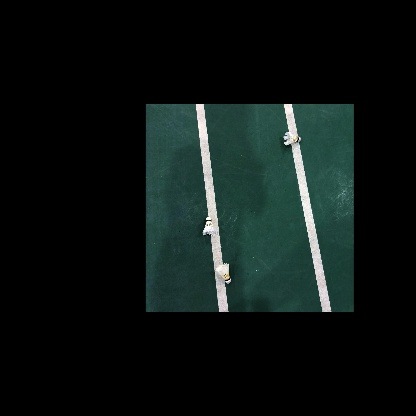ball_single: (215, 263, 231, 284), (202, 217, 217, 236), (283, 132, 301, 146)
